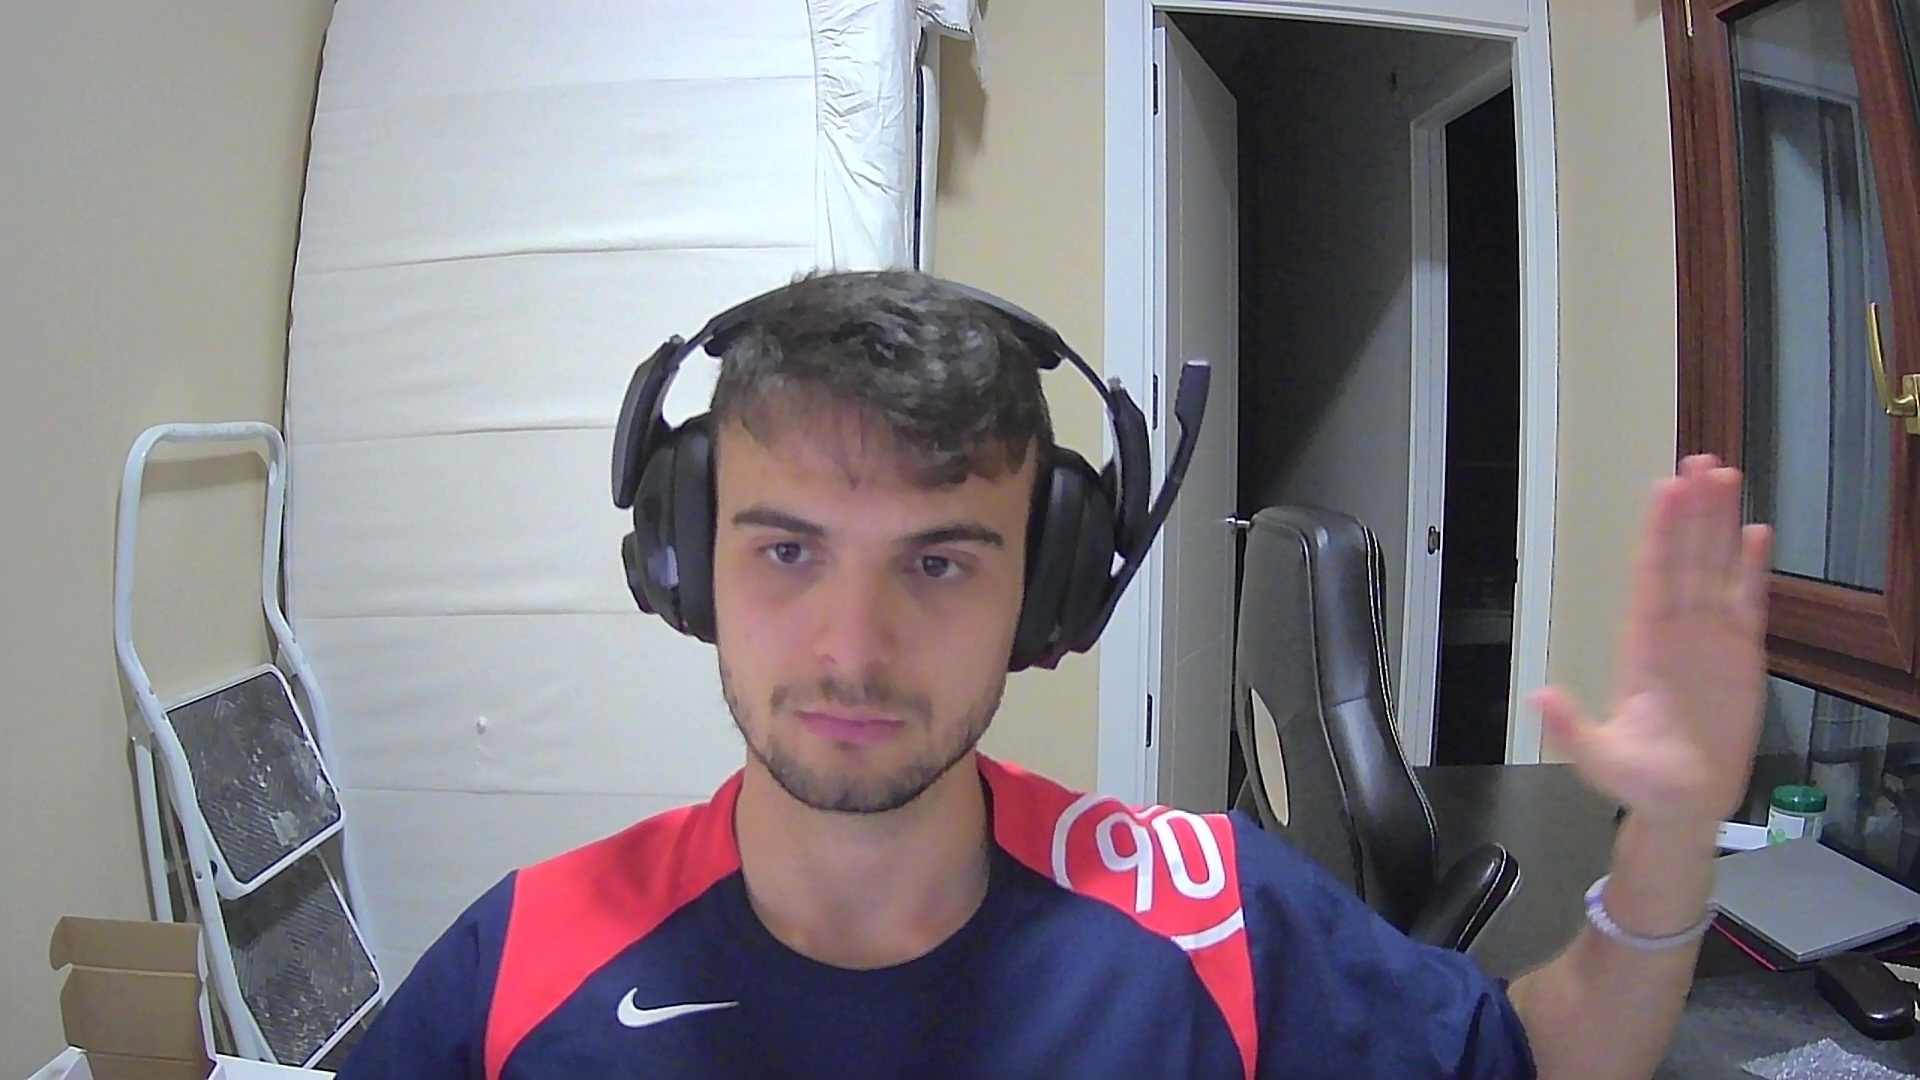Palm: (1528, 454, 1778, 824)
